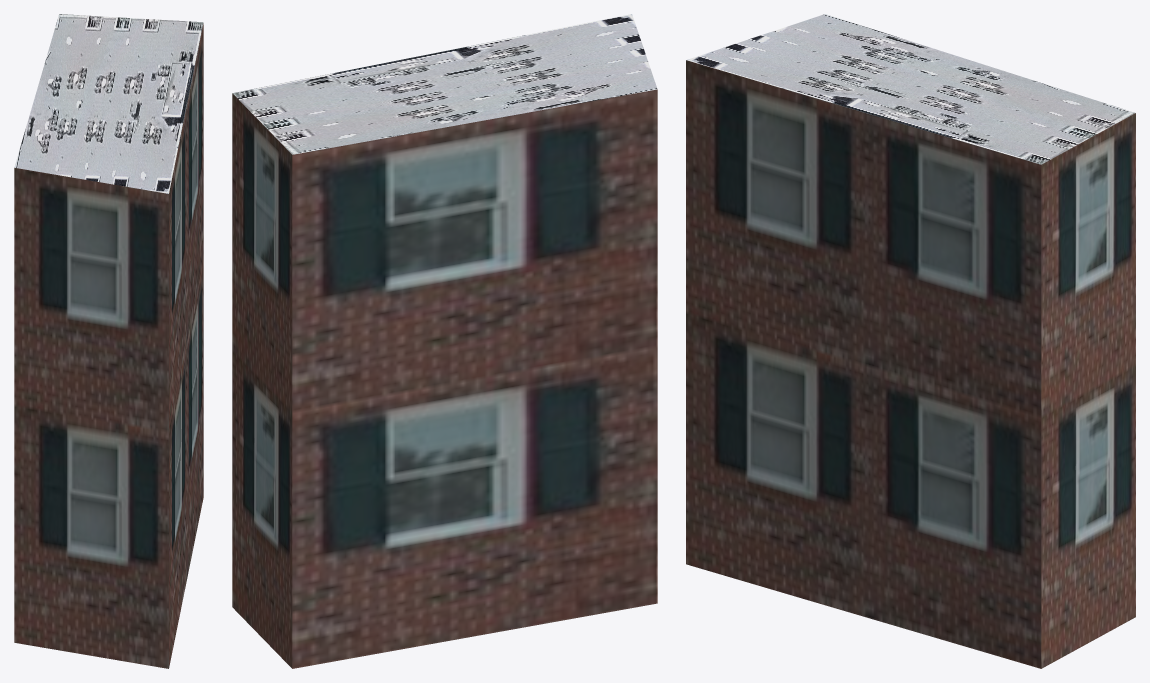
Rendered from ResTex__4399.fbx.
The picture shows the model from 3 angles, left to right: view 1: azimuth 30°, elevation 25°; view 2: azimuth 150°, elevation 25°; view 3: azimuth 270°, elevation 25°; orthographic projection. The views are drawn at different scales.
Parts seen in each view (by area): view 1: CityEngineMaterial_14_m, CityEngineMaterial_4_m; view 2: CityEngineMaterial_14_m, CityEngineMaterial_4_m; view 3: CityEngineMaterial_14_m, CityEngineMaterial_4_m.
Boxes of the visible parts, bbox=[...] form: CityEngineMaterial_14_m: bbox=[14, 23, 203, 668]; CityEngineMaterial_4_m: bbox=[14, 14, 203, 193]; CityEngineMaterial_14_m: bbox=[232, 89, 657, 668]; CityEngineMaterial_4_m: bbox=[232, 14, 657, 154]; CityEngineMaterial_14_m: bbox=[686, 60, 1135, 668]; CityEngineMaterial_4_m: bbox=[686, 14, 1135, 164].
Size of the model in its own units: 3.85 by 6 by 4.85.
2 materials, 2 textured.
